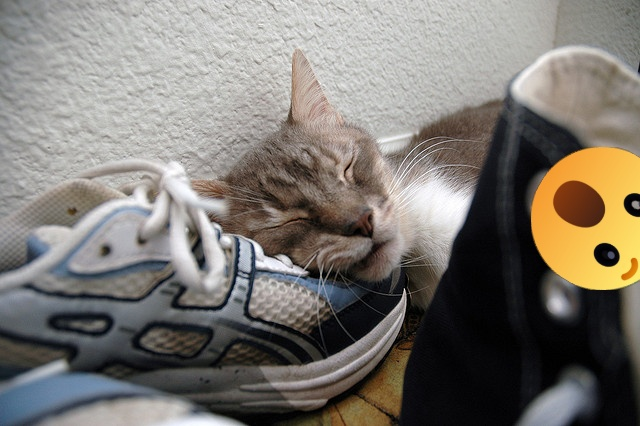wow: (531, 147, 640, 290)
